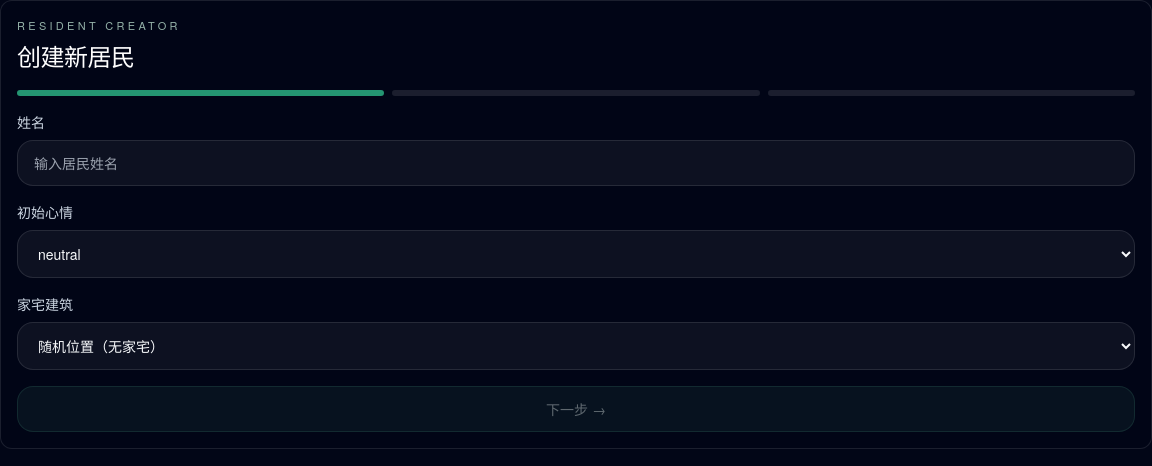
Scenario: ResidentCreationWizard › advances to step 3 (relationships) after selecting personality
In the field with placeholder "输入居民姓名": (576, 162) left=17, top=140, right=1135, bottom=186, type "TestName"
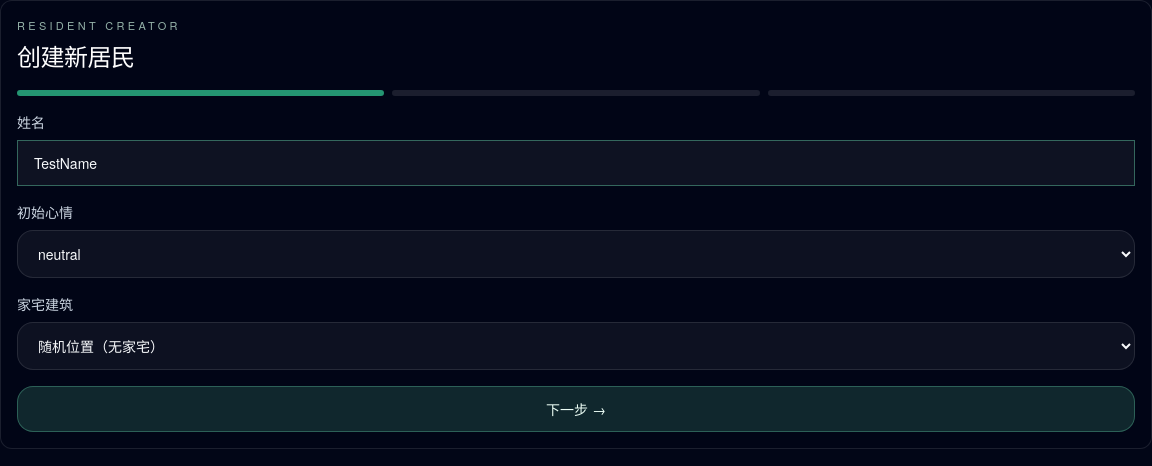
Click the button "下一步 →": (576, 408) left=17, top=386, right=1135, bottom=432
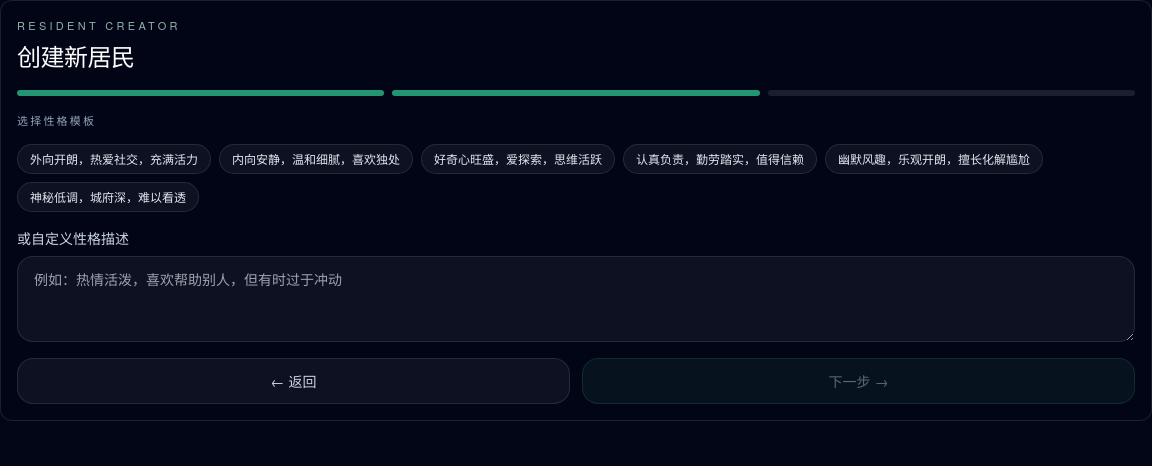
Click the button "外向开朗，热爱社交，充满活力": (114, 159) left=17, top=144, right=211, bottom=174
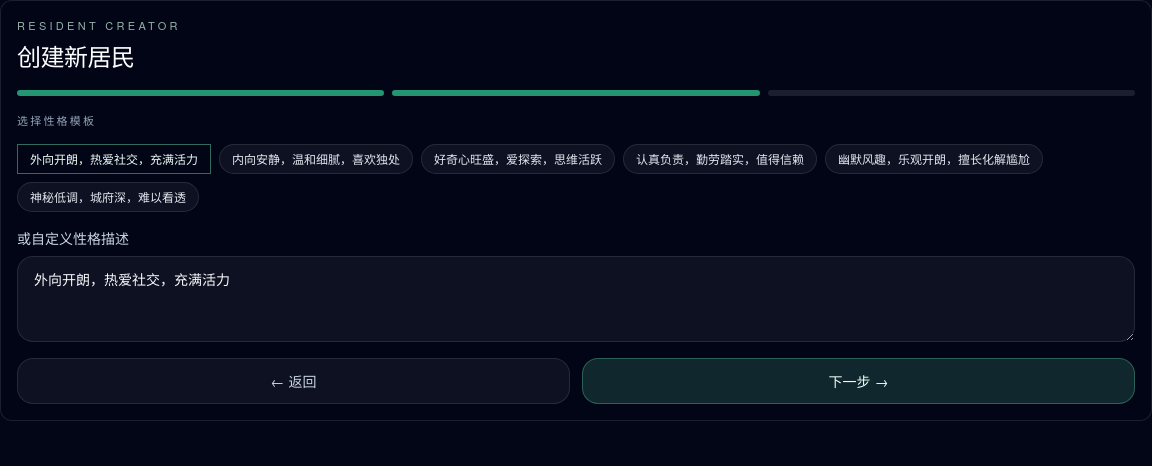
Click the button "下一步 →": (858, 381) left=582, top=358, right=1135, bottom=404
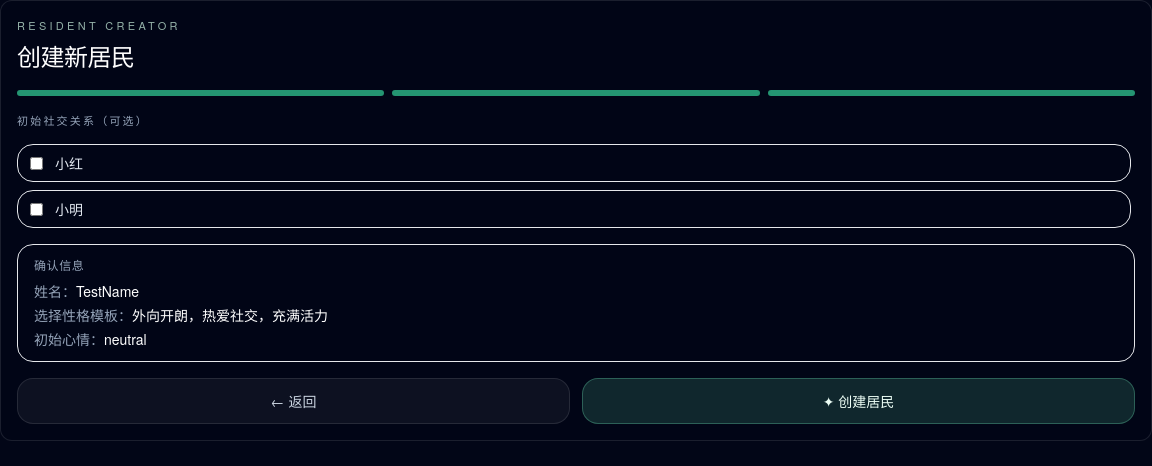
Expected: the text "初始社交关系（可选）" is shown, left=17, top=112, right=149, bottom=128
